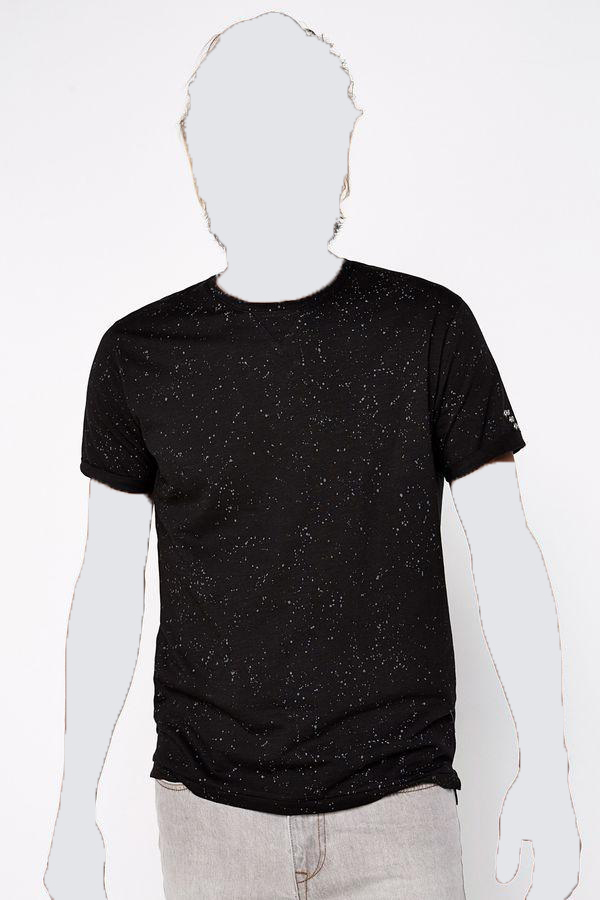teeshirt: (59, 258, 530, 814)
